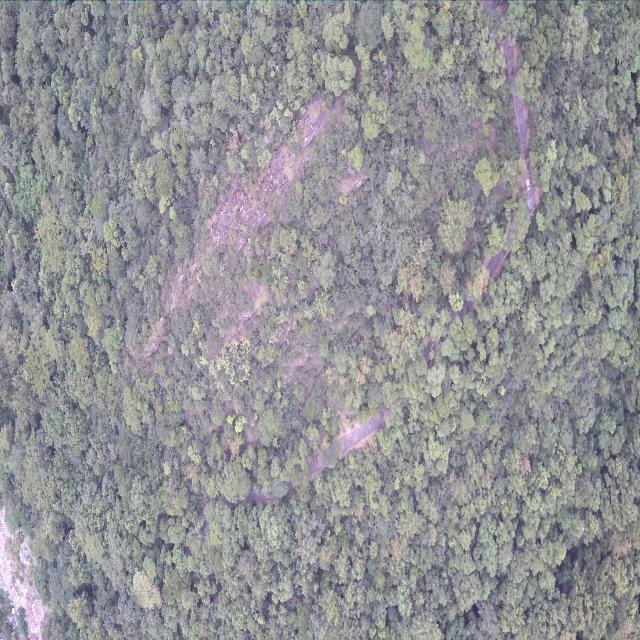drone: (275, 64, 279, 71)
